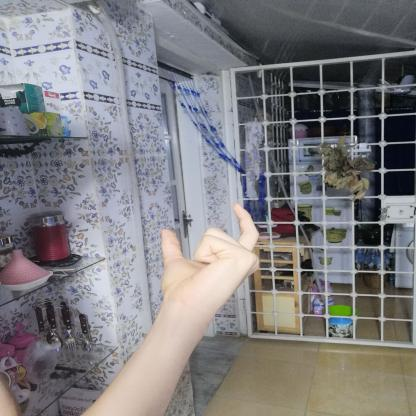NOON: (148, 199, 272, 318)
